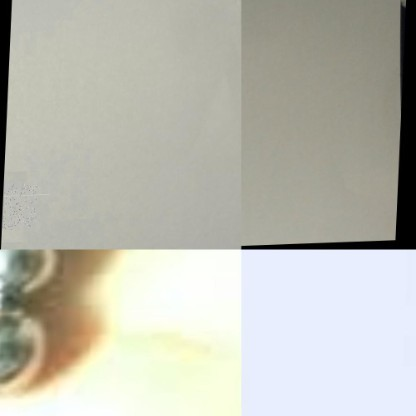ironball: (0, 304, 50, 400), (0, 249, 61, 297)
